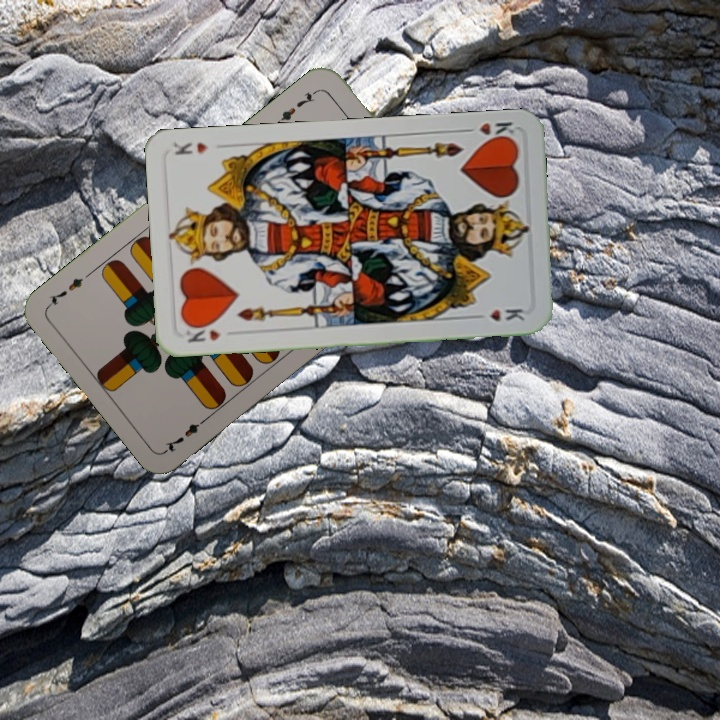E7: (160, 412, 211, 455), (271, 85, 321, 128)
HK: (459, 117, 518, 145), (183, 326, 223, 345)
